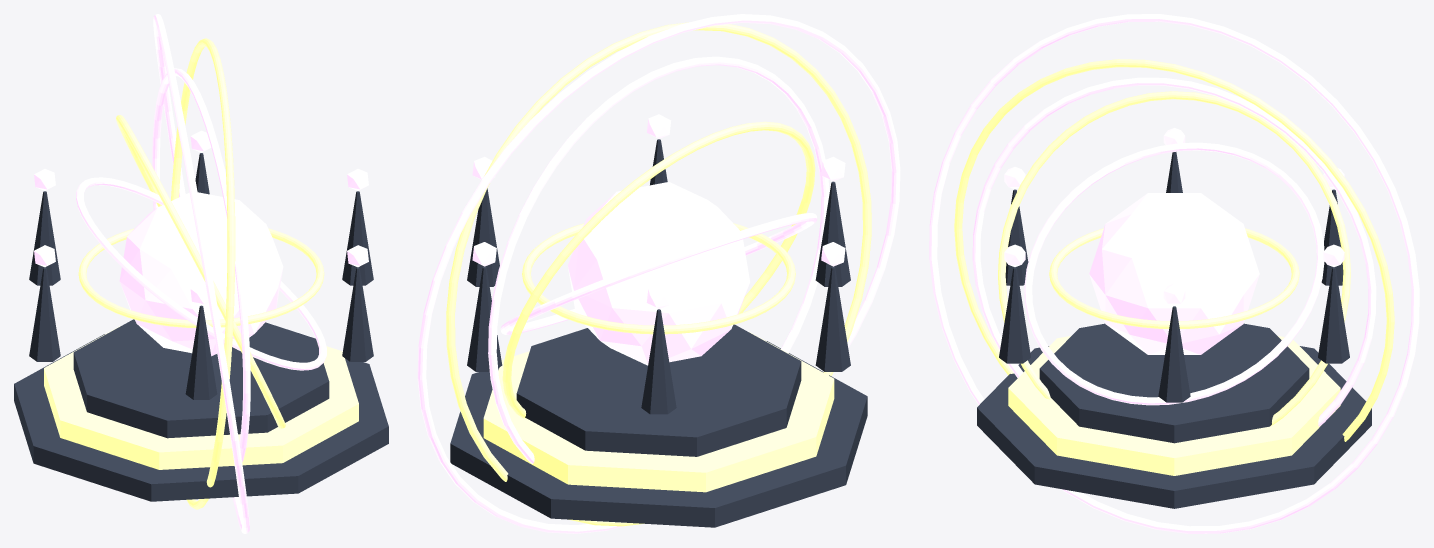
Rendered from gpu-blender-v56.glb.
3 views of the same model, side by side, from view 1: azimuth 30°, elevation 25°; view 2: azimuth 150°, elevation 25°; view 3: azimuth 270°, elevation 25° (orthographic). The views are drawn at different scales.
Visible parts, largest first — view 1: Cylinder.002, Cylinder, SovereignCore_audiocipher-stego-engine, Cylinder.001, Torus.005, Torus.004, Torus.003, Torus.001, Torus, Torus.002, Cone.003, Cone.005 (+3 smaller); view 2: Cylinder.002, SovereignCore_audiocipher-stego-engine, Cylinder, Cylinder.001, Torus.005, Torus.004, Torus.003, Torus.002, Torus.001, Torus, Cone.002, Cone.003 (+3 smaller); view 3: SovereignCore_audiocipher-stego-engine, Cylinder.002, Cylinder, Cylinder.001, Torus.005, Torus.004, Torus.001, Torus.003, Torus.002, Torus, Cone, Cone.001 (+3 smaller).
Boxes of the visible parts, bbox=[...] form: Cylinder.002: bbox=[73, 319, 329, 438]; Cylinder: bbox=[14, 334, 388, 501]; SovereignCore_audiocipher-stego-engine: bbox=[119, 192, 283, 356]; Cylinder.001: bbox=[44, 326, 358, 469]; Torus.005: bbox=[153, 14, 249, 533]; Torus.004: bbox=[171, 38, 235, 509]; Torus.003: bbox=[152, 68, 250, 461]; Torus.001: bbox=[76, 177, 326, 370]; Torus: bbox=[78, 228, 324, 327]; Torus.002: bbox=[116, 115, 285, 428]; Cone.003: bbox=[29, 267, 60, 361]; Cone.005: bbox=[342, 267, 373, 361]; Cylinder.002: bbox=[516, 324, 801, 456]; SovereignCore_audiocipher-stego-engine: bbox=[568, 182, 749, 365]; Cylinder: bbox=[450, 341, 867, 527]; Cylinder.001: bbox=[483, 332, 834, 492]; Torus.005: bbox=[417, 14, 900, 533]; Torus.004: bbox=[446, 22, 871, 526]; Torus.003: bbox=[488, 56, 829, 463]; Torus.002: bbox=[502, 121, 815, 418]; Torus.001: bbox=[500, 213, 817, 334]; Torus: bbox=[522, 223, 795, 334]; Cone.002: bbox=[641, 309, 676, 414]; Cone.003: bbox=[815, 267, 850, 371]; SovereignCore_audiocipher-stego-engine: bbox=[1089, 193, 1259, 354]; Cylinder.002: bbox=[1039, 323, 1309, 443]; Cylinder: bbox=[977, 346, 1371, 508]; Cylinder.001: bbox=[1008, 336, 1340, 475]; Torus.005: bbox=[929, 14, 1419, 533]; Torus.004: bbox=[954, 59, 1394, 441]; Torus.001: bbox=[1024, 142, 1324, 405]; Torus.003: bbox=[972, 77, 1376, 426]; Torus.002: bbox=[998, 91, 1350, 425]; Torus: bbox=[1049, 228, 1299, 328]; Cone: bbox=[1158, 306, 1190, 402]; Cone.001: bbox=[1318, 267, 1349, 363].
Bounding box in the file's own units: 4.41 × 5.93 × 5.46.
